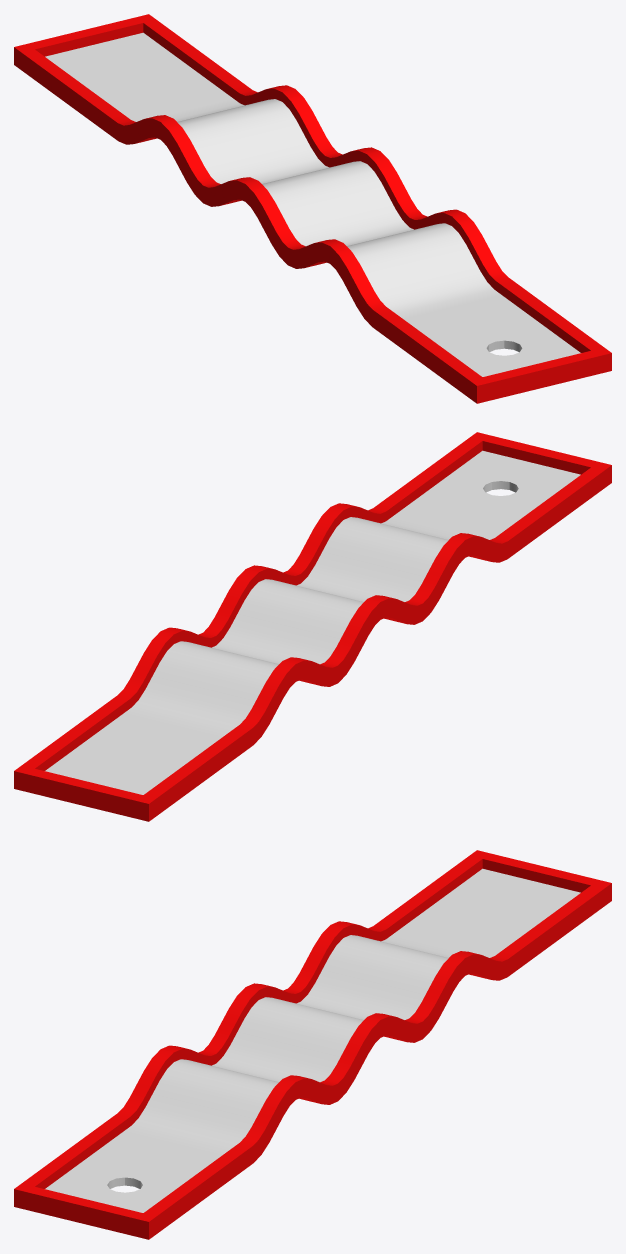
Rendered from BahnF2.fbx.
3 views of the same model, one above another, from view 1: azimuth 30°, elevation 25°; view 2: azimuth 150°, elevation 25°; view 3: azimuth 330°, elevation 25° (orthographic).
Parts seen in each view (by area): view 1: BahnF2; view 2: BahnF2; view 3: BahnF2.
Part boxes in pixels (x1,y1,x2,y2): BahnF2: [14, 14, 611, 403]; BahnF2: [14, 432, 611, 821]; BahnF2: [14, 850, 611, 1239].
Bounding box in the file's own units: 87 × 31 × 517.
